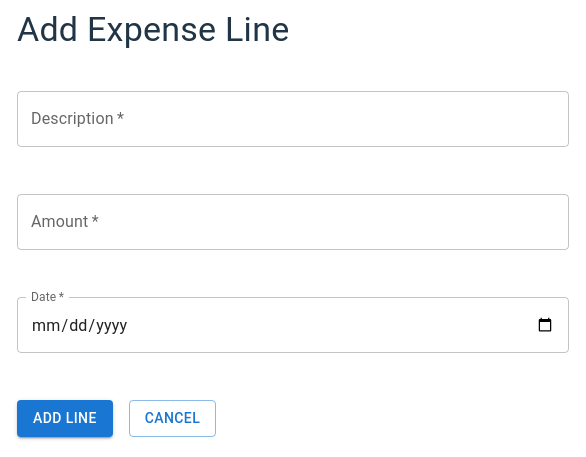
Test: ExpenseLineDetailPage › displays field-level error messages on server 422 response
Note: Provide values that pass client-side validation so the API call is made
Type "Hotel" into the field labelled "Description *".
click(293, 119); type("Hotel")  # box [17,91,569,147]
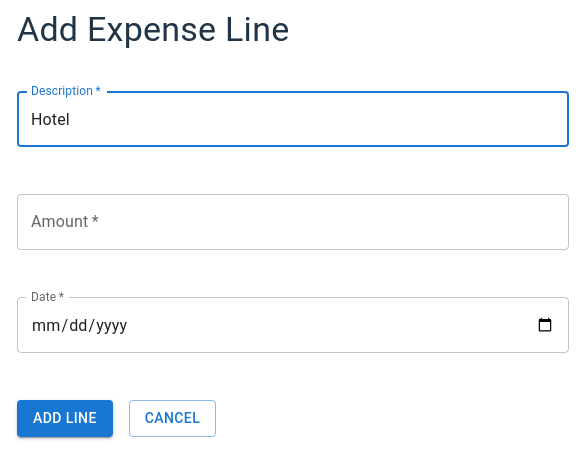
Type "50" into the number field labelled "Amount *".
click(293, 222); type("50")  # box [17,194,569,250]
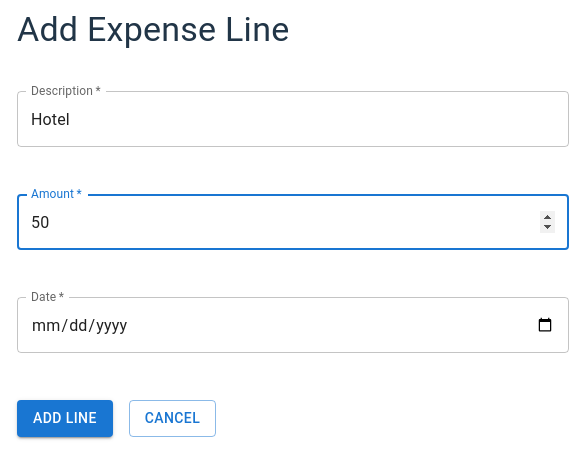
Type "2026-04-10" into the date field labelled "Date *".
click(293, 325); type("2026-04-10")  # box [17,297,569,353]
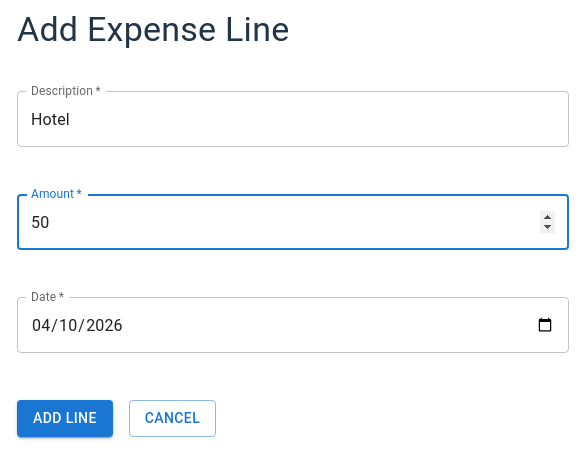
Click the button "Add Line".
click(65, 418)  # box [17,400,113,437]
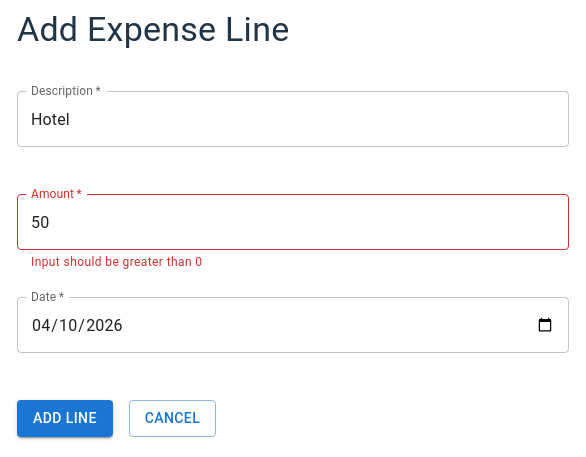
expect the text "Input should be greater than 0" is shown: met, box [31,255,202,269]
